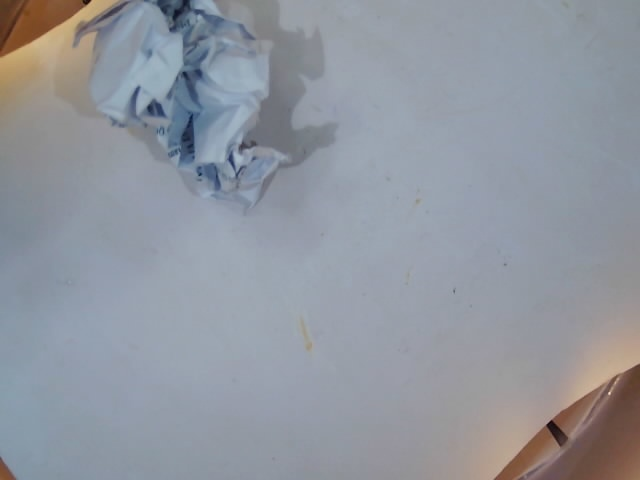paper: (71, 0, 328, 225)
